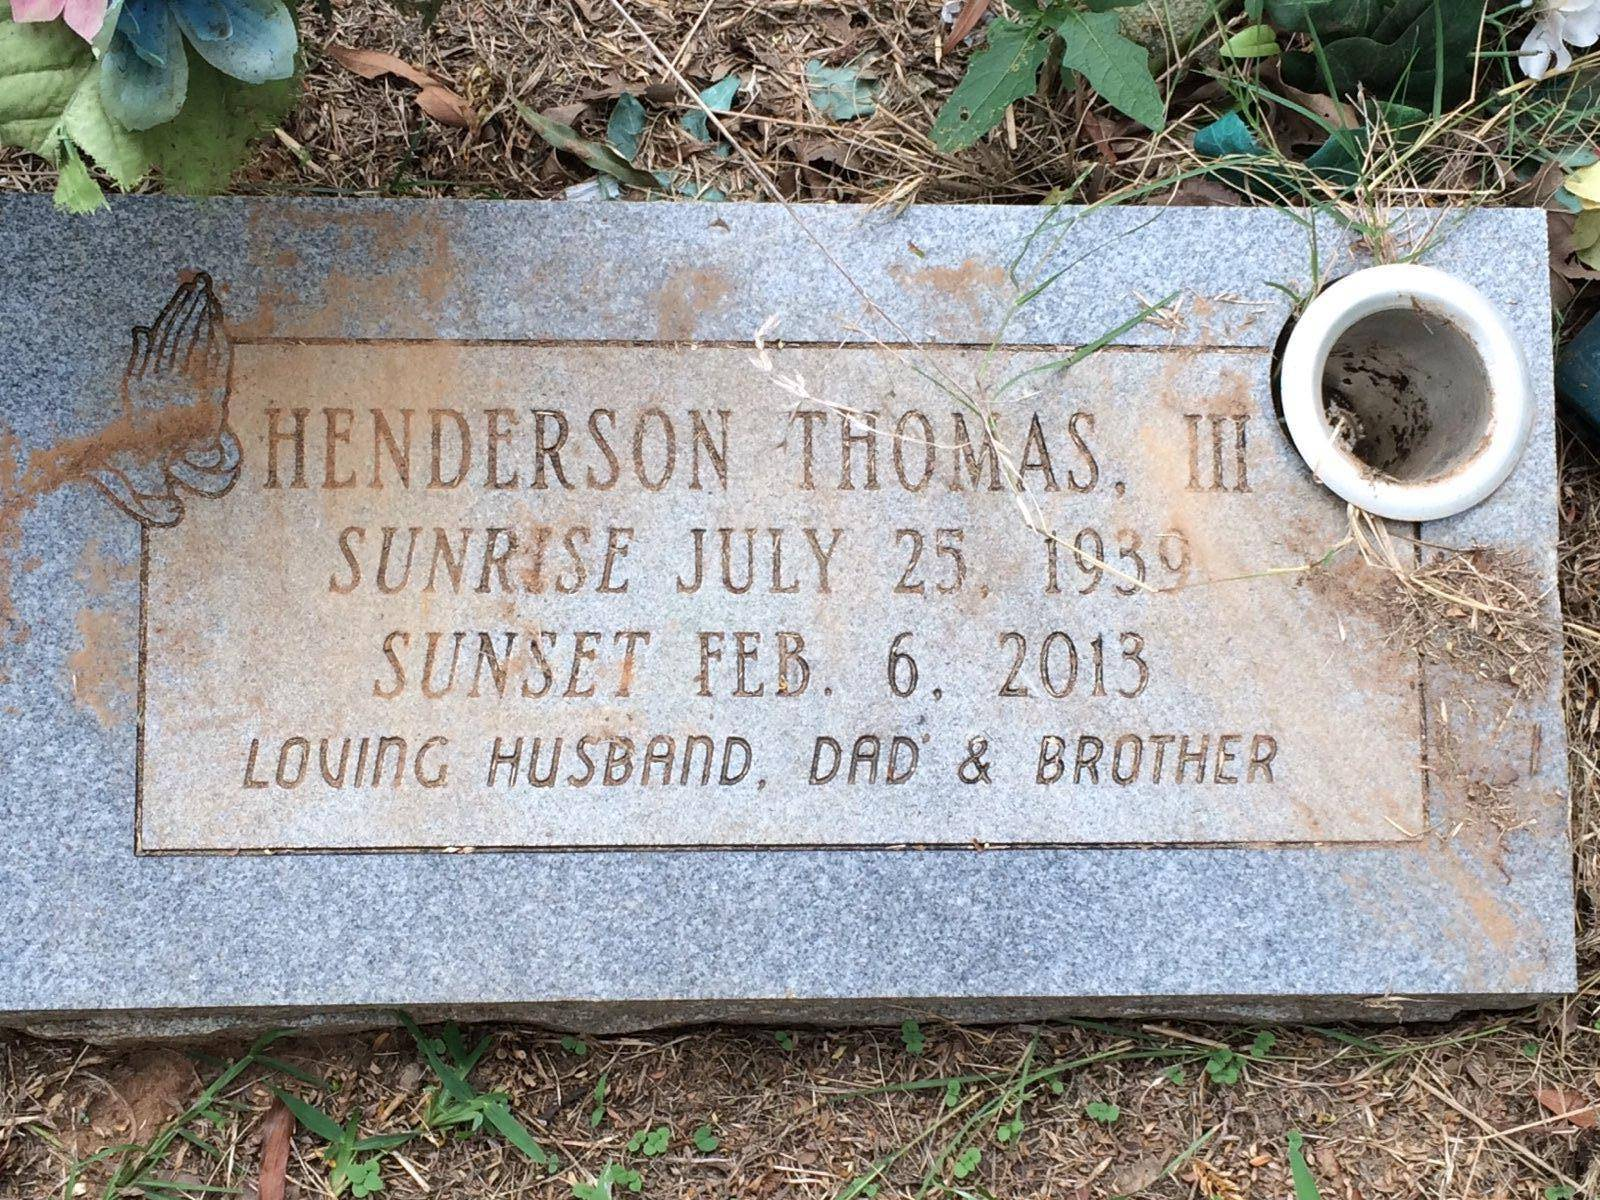flat: (0, 182, 1577, 1005)
